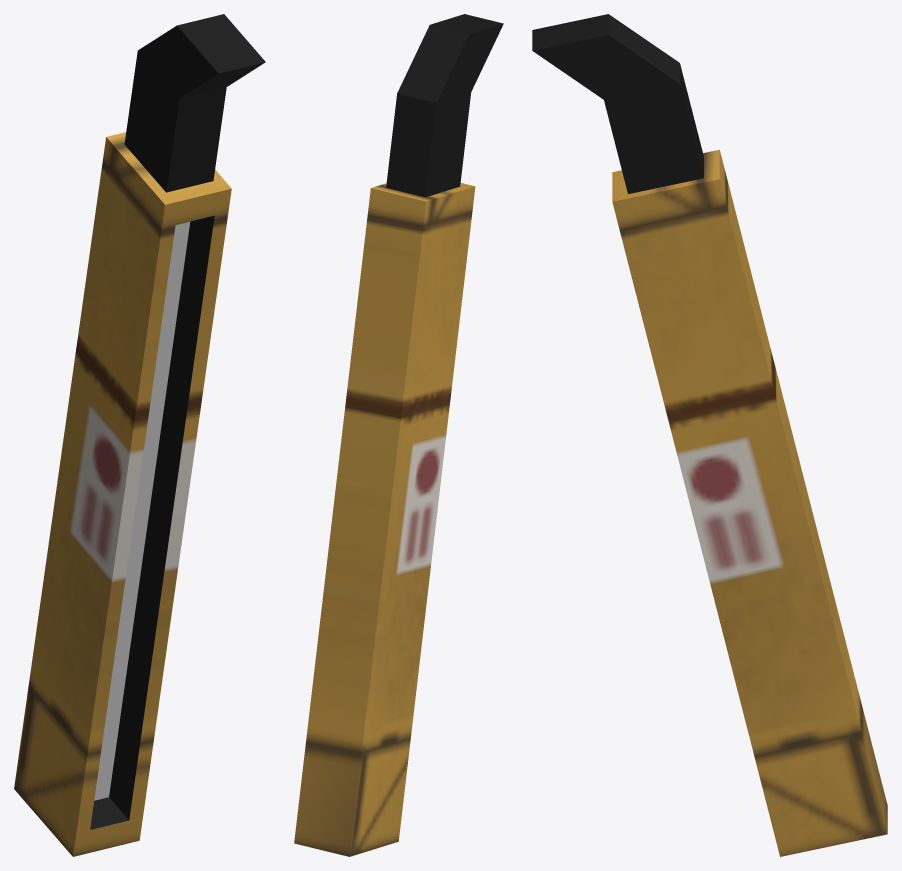
File: Robot 6 Wing.fbx
3 renders of one model, left to right at view 1: azimuth 30°, elevation 25°; view 2: azimuth 150°, elevation 25°; view 3: azimuth 270°, elevation 25°, orthographic. The views are drawn at different scales.
Parts seen in each view (by area): view 1: Cube.006; view 2: Cube.006; view 3: Cube.006.
Part boxes in pixels (x1,y1,x2,y2): Cube.006: (14, 14, 265, 856); Cube.006: (294, 14, 503, 856); Cube.006: (532, 14, 887, 856).
Bounding box in the file's own units: 40.89 × 526 × 207.
